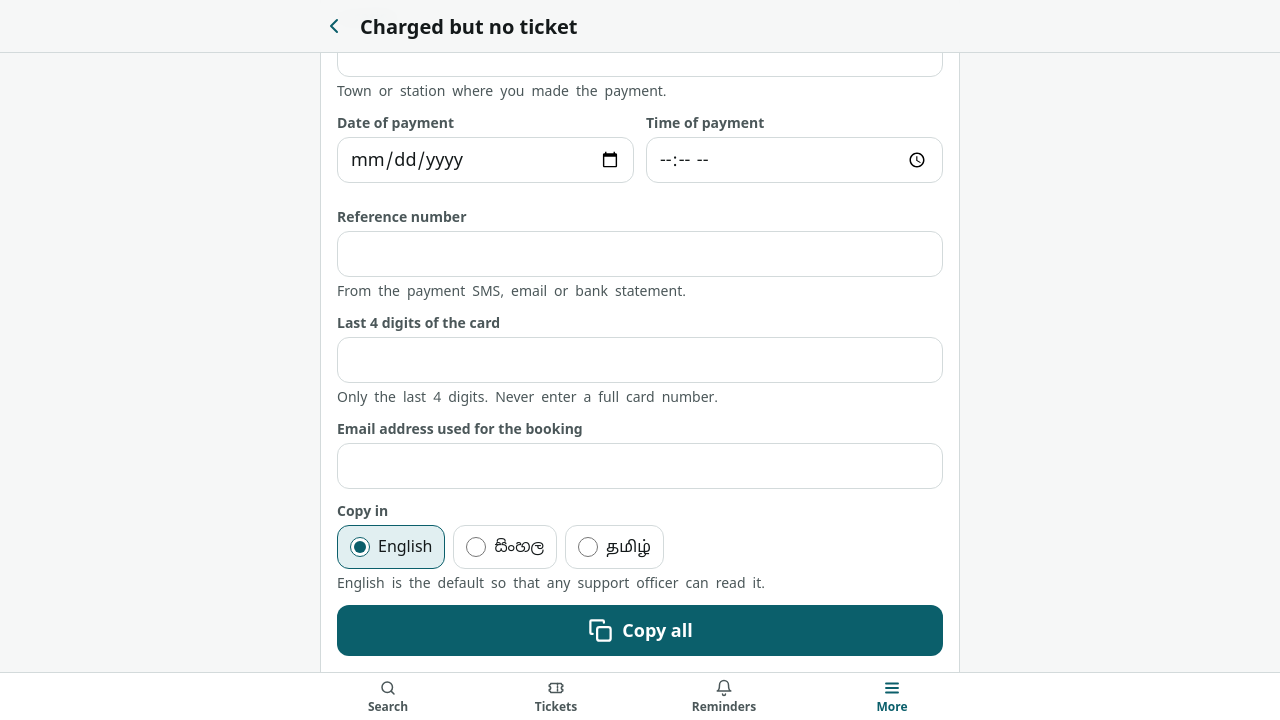
Scenario: card digits › pasting a full card number is refused and explained; nothing is kept
(page scrolled)
Click the field labelled "Last 4 digits of the card" at {"x": 640, "y": 360}, box [337,337,943,383]
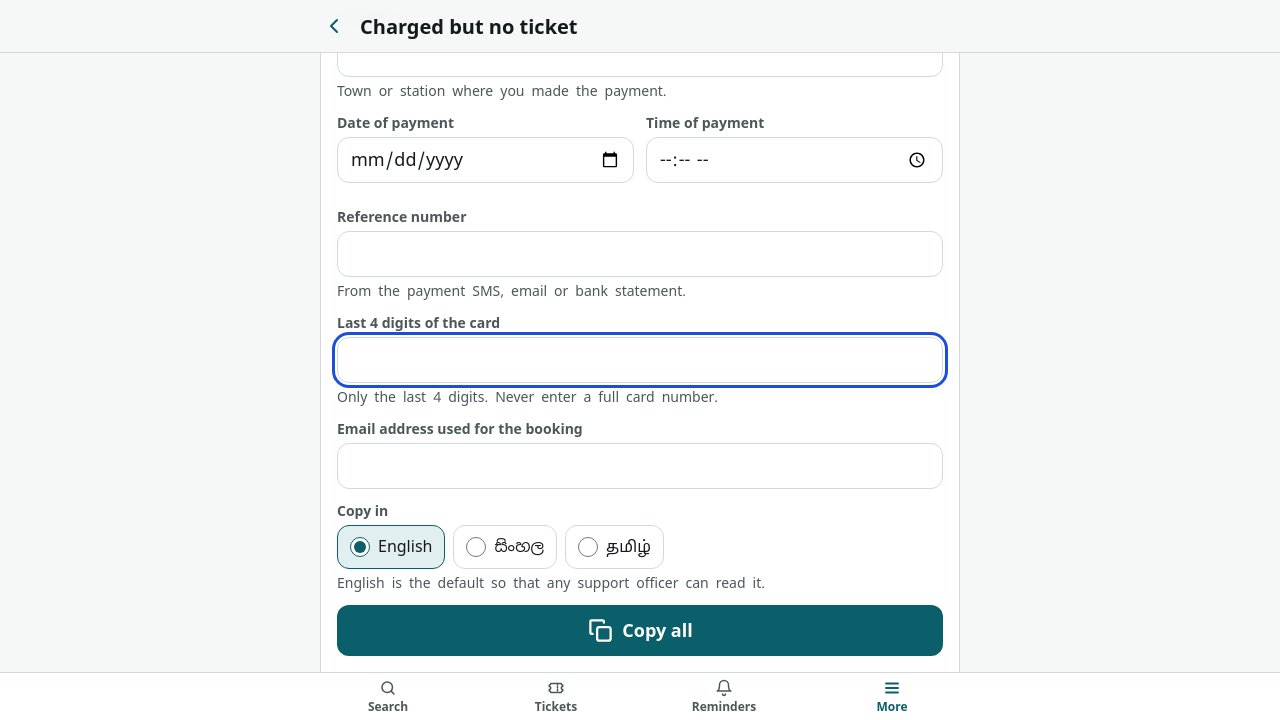
Type keys "4111 1111 1111 1111"
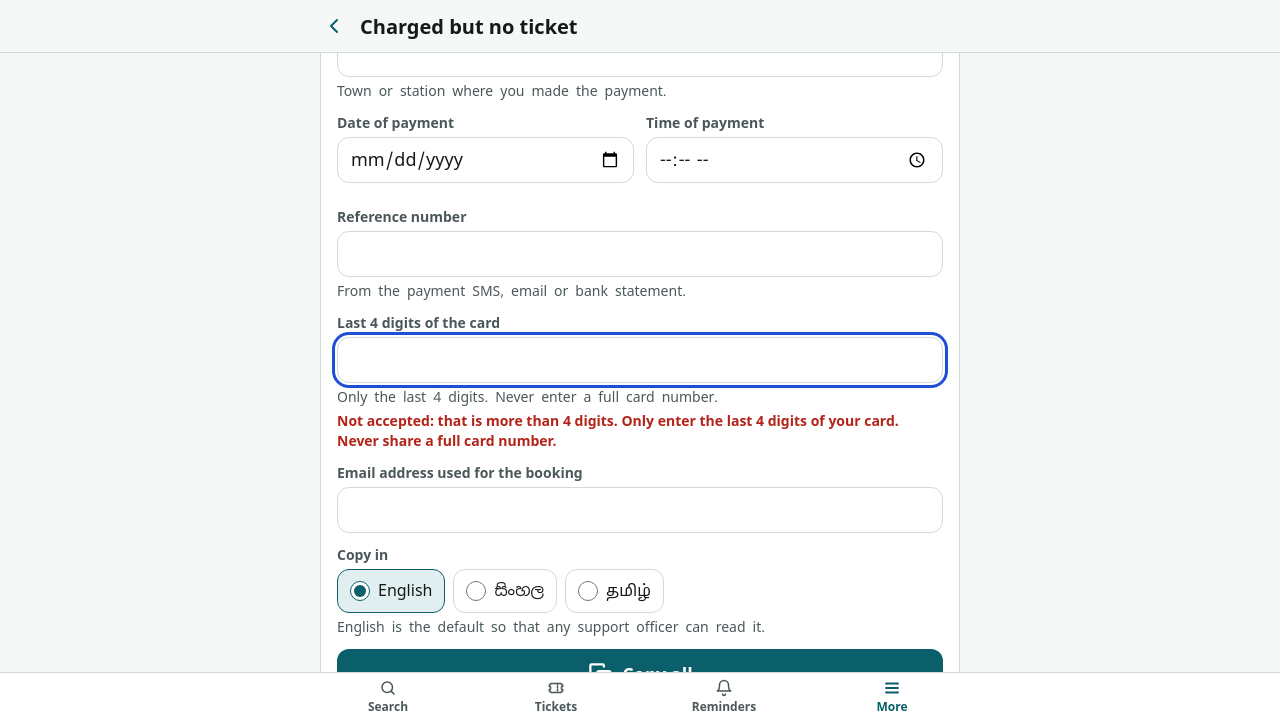
Expected: the field labelled "Last 4 digits of the card" is empty, [337,337,943,383]
Expected: the message shows "Not accepted: that is more than 4 digits. Only enter the last 4 digits of your card. Never share a full card number.", [337,411,899,450]
